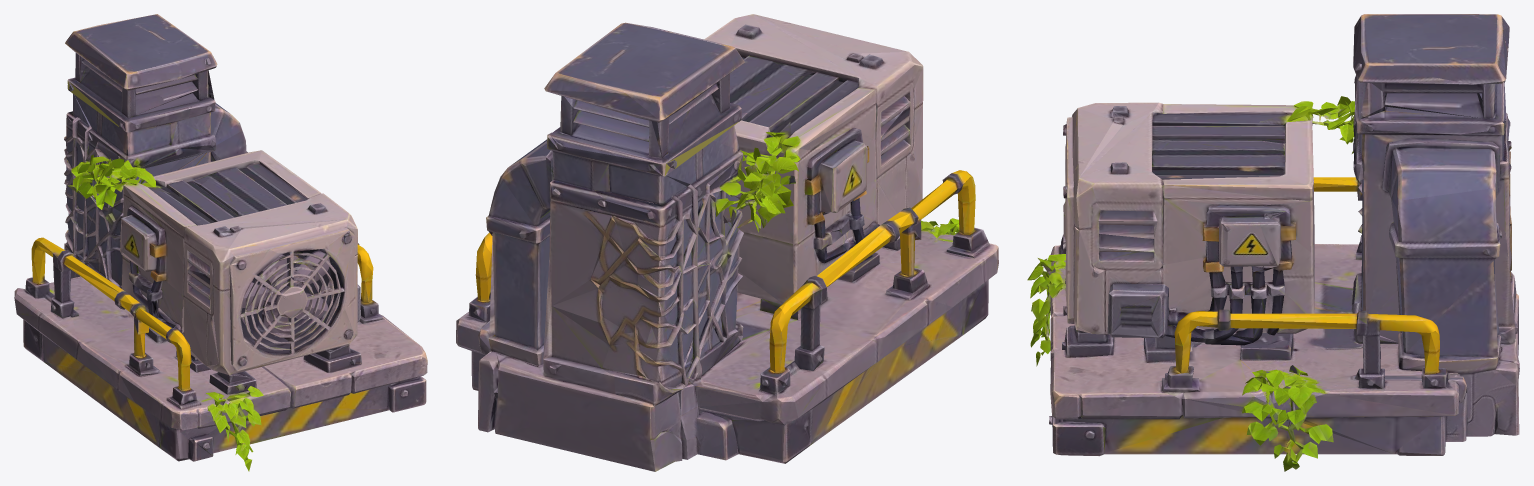
The model's file is vent_unit.glb.
3 renders of one model, left to right at view 1: azimuth 30°, elevation 25°; view 2: azimuth 150°, elevation 25°; view 3: azimuth 270°, elevation 25°, orthographic. The views are drawn at different scales.
Visible parts, largest first — view 1: output_unwrapped; view 2: output_unwrapped; view 3: output_unwrapped.
Part boxes in pixels (x1,y1,x2,y2): output_unwrapped: (14,14,427,471); output_unwrapped: (456,14,998,471); output_unwrapped: (1027,14,1519,471).
Size of what is drawn, in the model's own units: 0.9449 by 1 by 1.23.
1 material, 1 textured.
